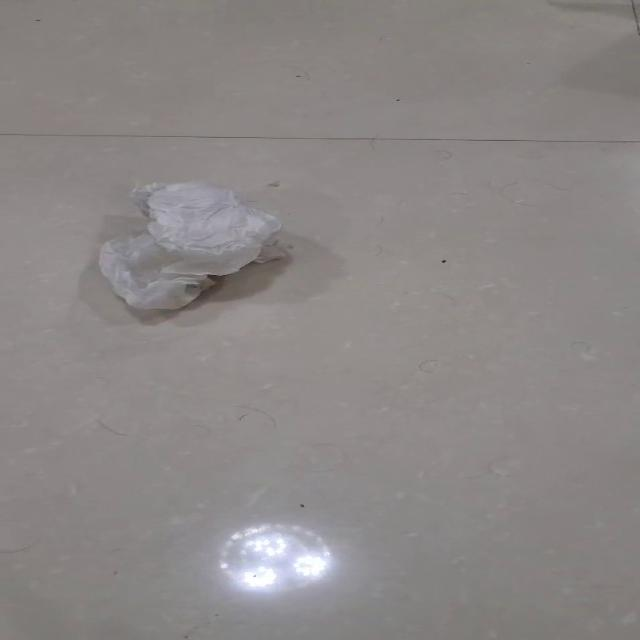plastic: (96, 180, 284, 310)
